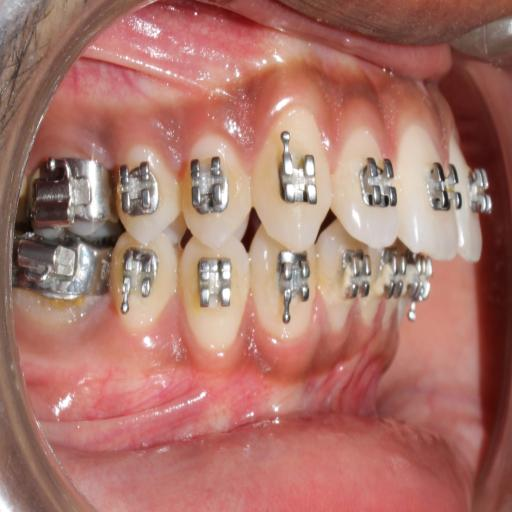correct_brace: (180, 229, 246, 350), (181, 130, 248, 244), (360, 142, 399, 216), (120, 241, 158, 315), (197, 254, 234, 318), (428, 147, 460, 220)
incorrect_brace: (335, 115, 399, 248), (188, 150, 233, 224)
